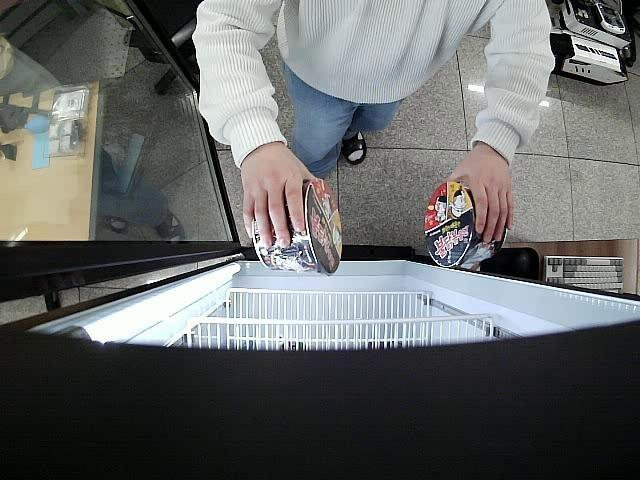07_buldak_L: (252, 176, 342, 280), (424, 178, 508, 272)
